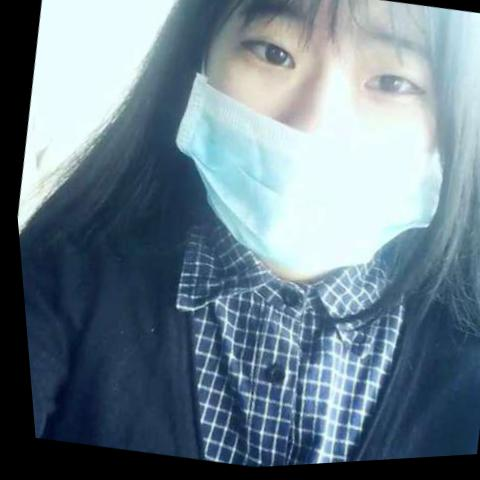WRONG: (166, 1, 475, 307)
